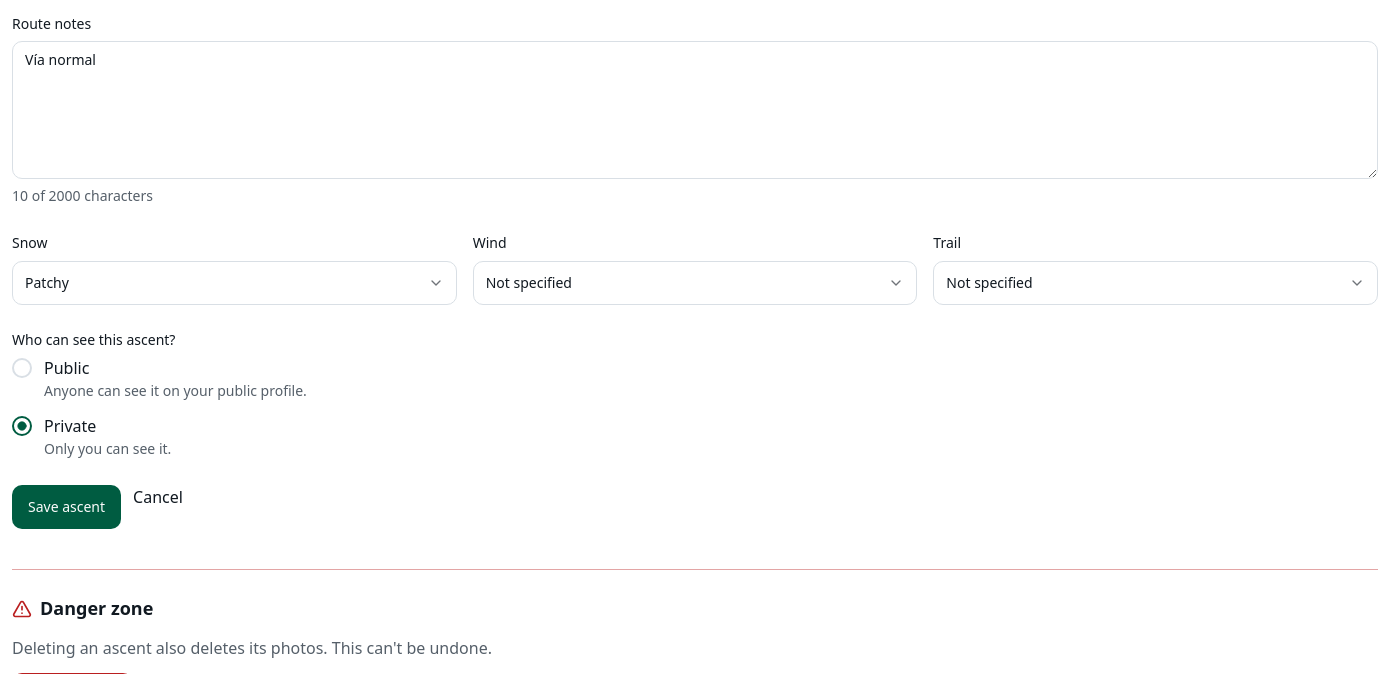
EditAscentForm › editAscentForm_dateInFuture_isShownOnItsField
(page scrolled)
Click the button "Save ascent". click: point(67, 507)
box: [12,485,121,529]
(page scrolled)
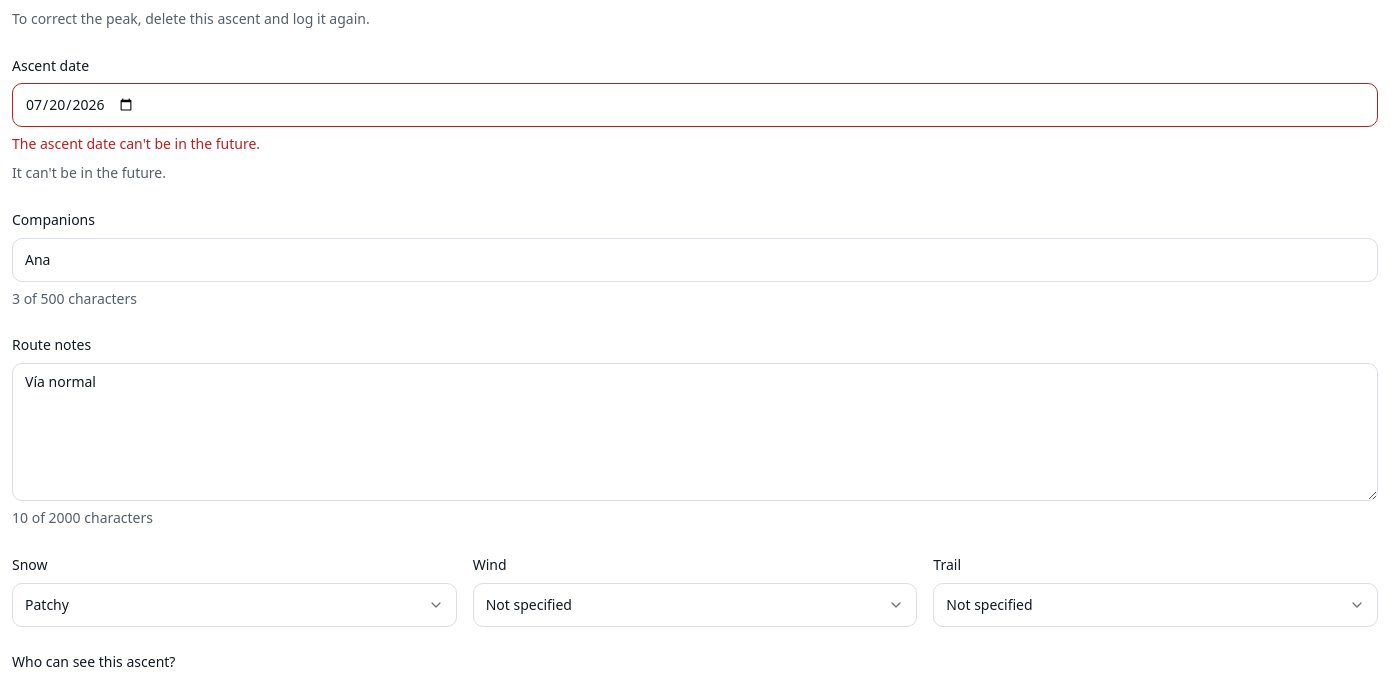
Now the text "The ascent date can't be in the future." is shown, box [12,134,260,153]
